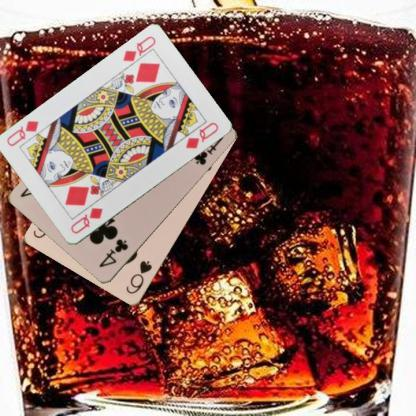4c: (96, 236, 130, 270)
6s: (123, 258, 154, 296)
Qd: (120, 34, 157, 71), (68, 205, 104, 236)
